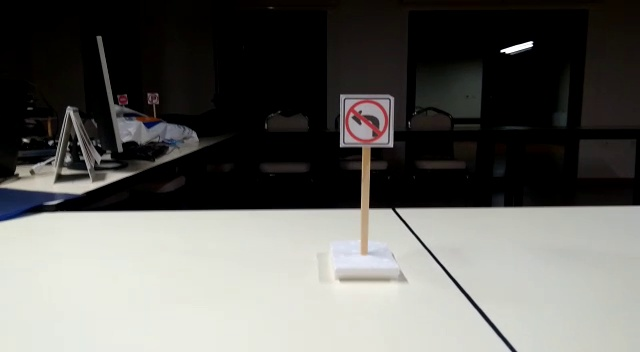sola_donulmez: (343, 98, 394, 146)
